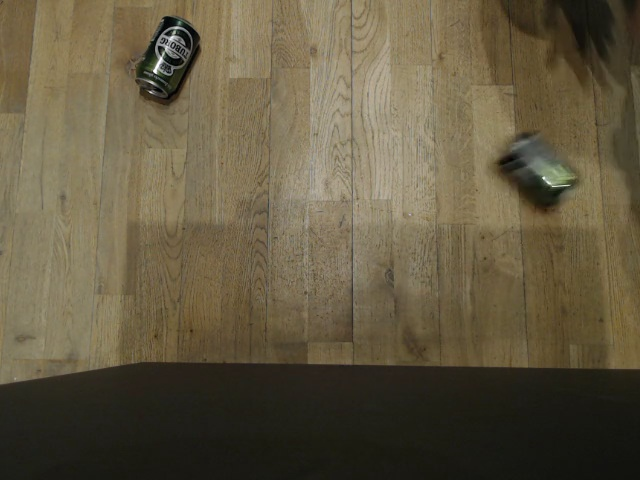beer: (492, 128, 583, 210), (132, 13, 202, 100)
